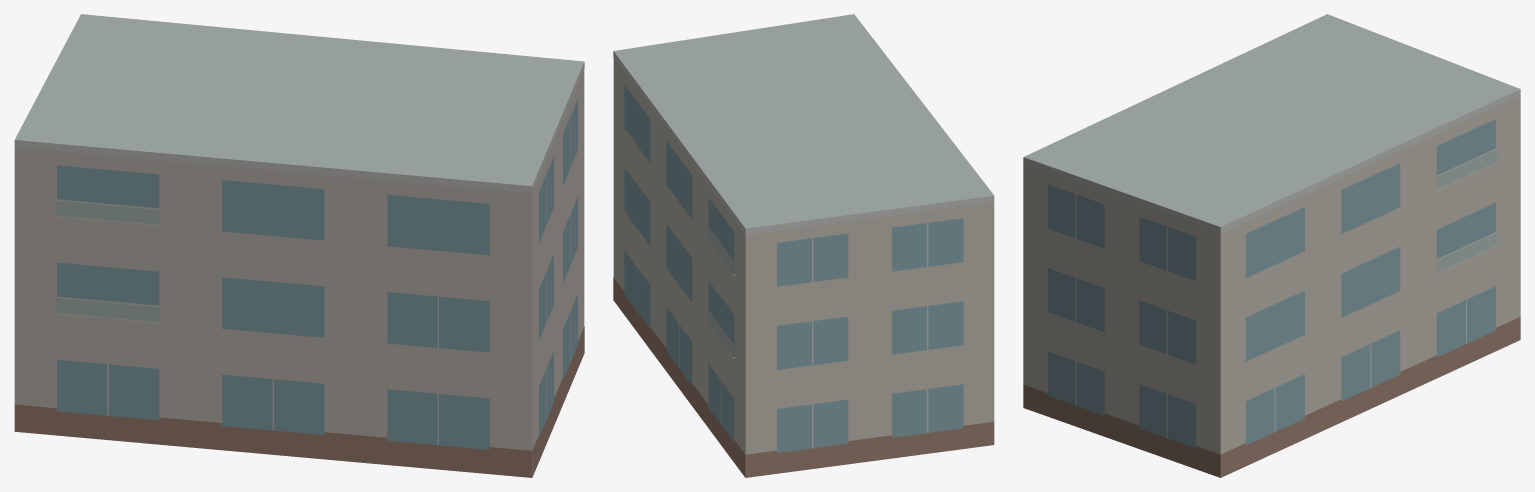
The model's file is survey-upis-32526045.glb.
The picture shows the model from 3 angles, left to right: view 1: azimuth 30°, elevation 25°; view 2: azimuth 150°, elevation 25°; view 3: azimuth 270°, elevation 25°; orthographic projection. The views are drawn at different scales.
Parts seen in each view (by area): view 1: survey-upis-32526045.tmp; view 2: survey-upis-32526045.tmp; view 3: survey-upis-32526045.tmp.
Part boxes in pixels (<box>): survey-upis-32526045.tmp: <box>14,14,584,477</box>; survey-upis-32526045.tmp: <box>613,14,994,477</box>; survey-upis-32526045.tmp: <box>1023,14,1520,477</box>.
Bounding box in the file's own units: 17.86 × 9.8 × 17.62.
